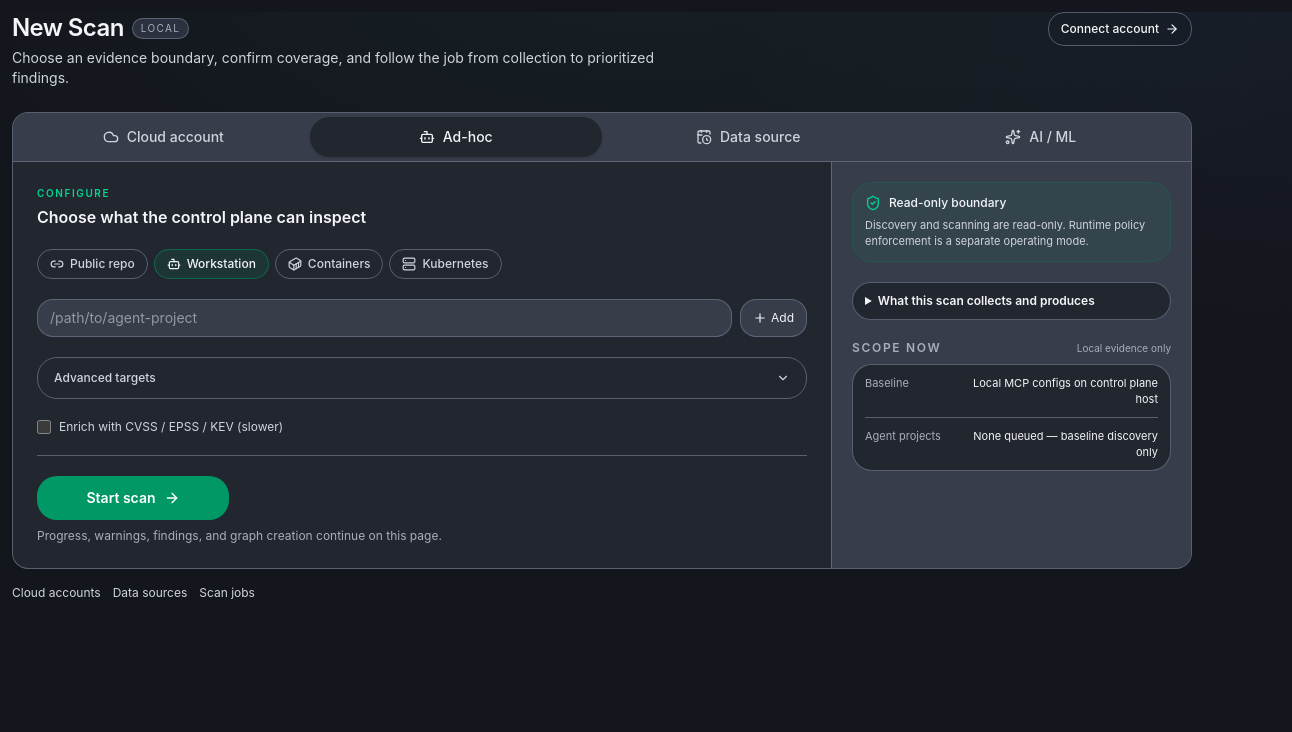
ScanForm › explains kubernetes namespace scope in plain language
Click the tab "Ad-hoc": (456, 137) left=310, top=117, right=602, bottom=157
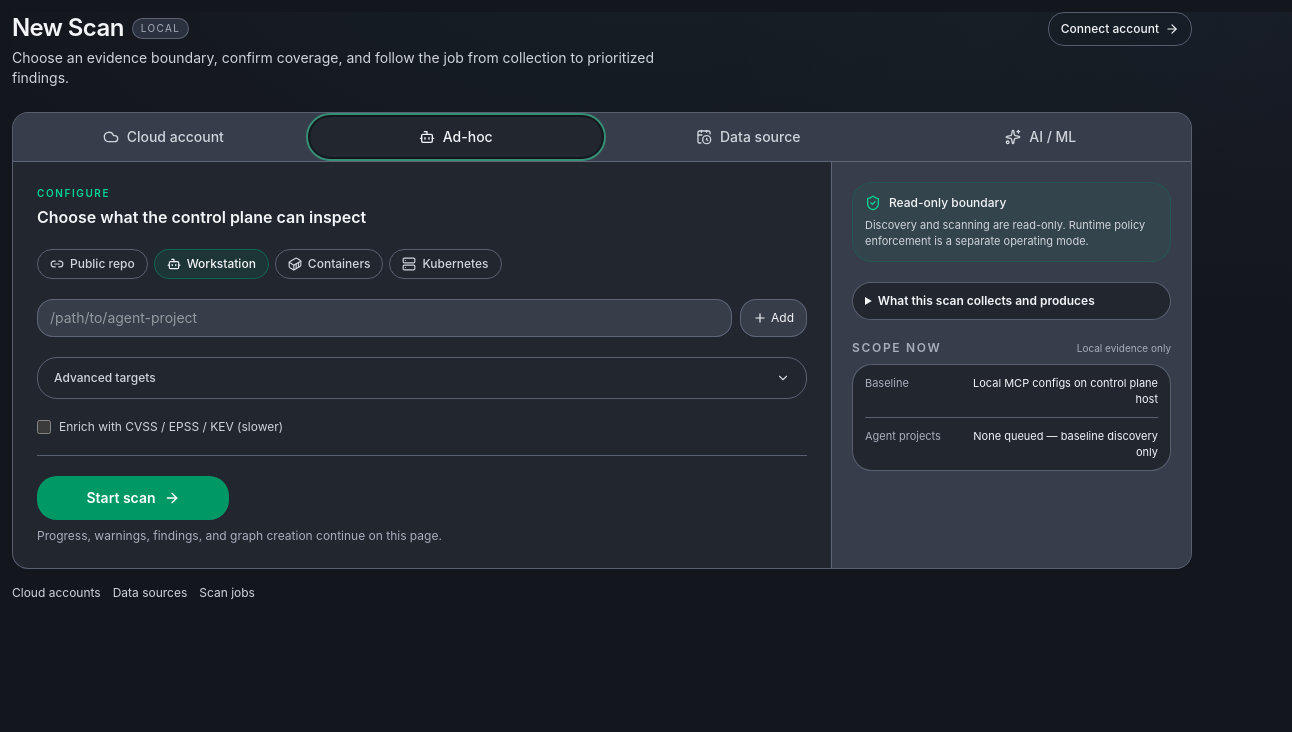
Click the tab "Kubernetes": (446, 264) left=390, top=249, right=502, bottom=279
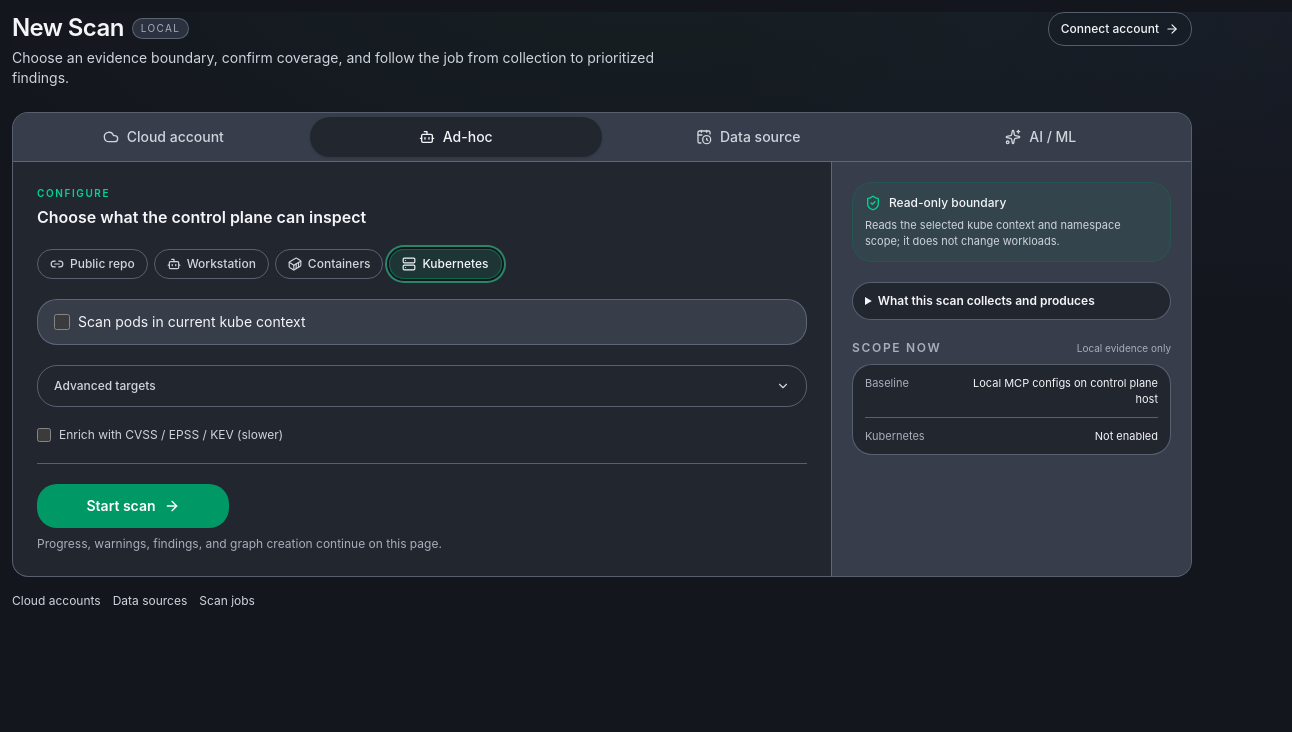
Click the checkbox labelled "Scan pods in current kube context": (62, 322) left=54, top=314, right=70, bottom=330
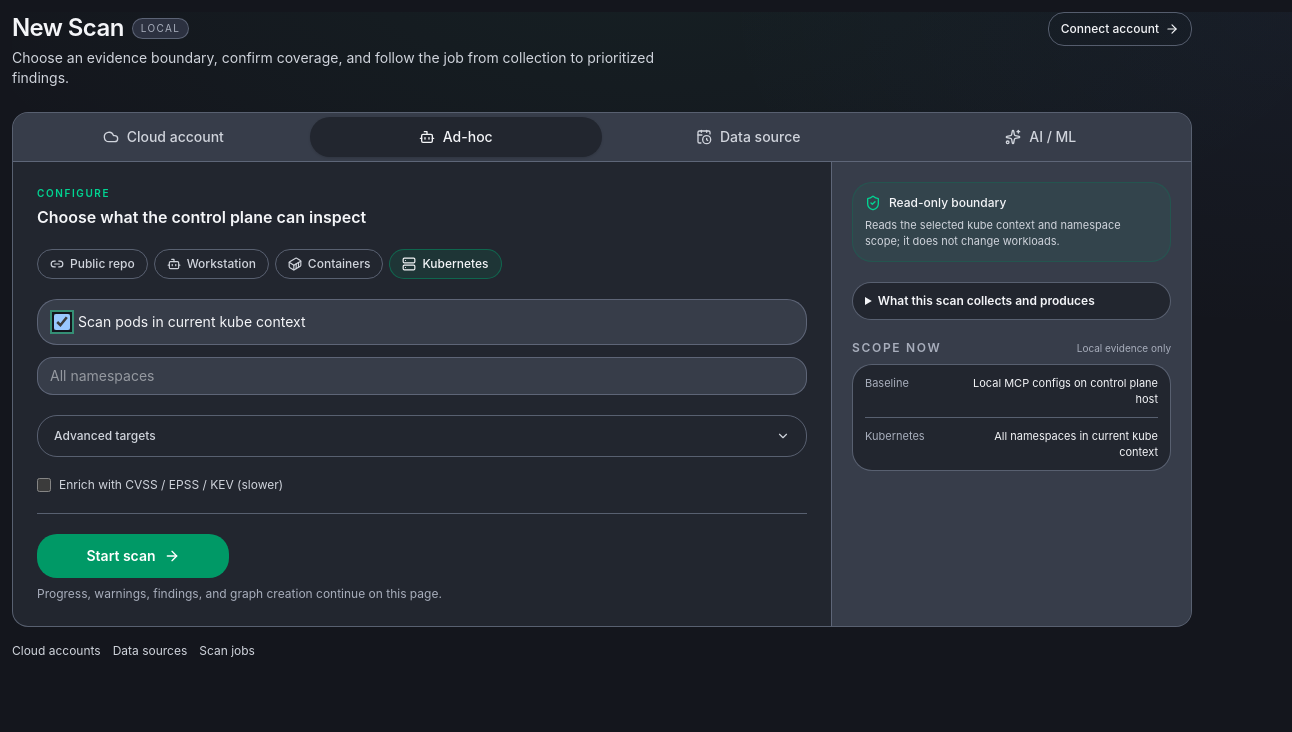
expect the field named "Namespace filter" is shown: met, box left=37, top=357, right=807, bottom=395
